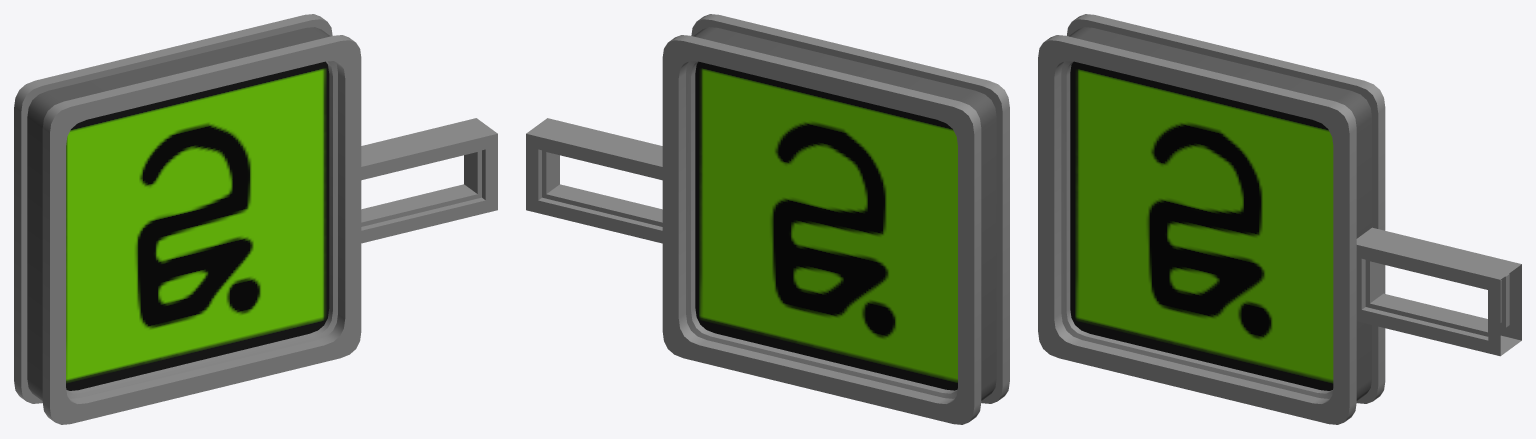
3 renders of one model, left to right at view 1: azimuth 30°, elevation 25°; view 2: azimuth 150°, elevation 25°; view 3: azimuth 330°, elevation 25°, orthographic.
Parts seen in each view (by area): view 1: MS_1M_3; view 2: MS_1M_3; view 3: MS_1M_3.
Part boxes in pixels (x1=…): MS_1M_3: x1=14, y1=14, x2=497, y2=424; MS_1M_3: x1=526, y1=14, x2=1009, y2=424; MS_1M_3: x1=1038, y1=14, x2=1521, y2=424.
Size of the model in its own units: 146 by 97.51 by 19.93.
